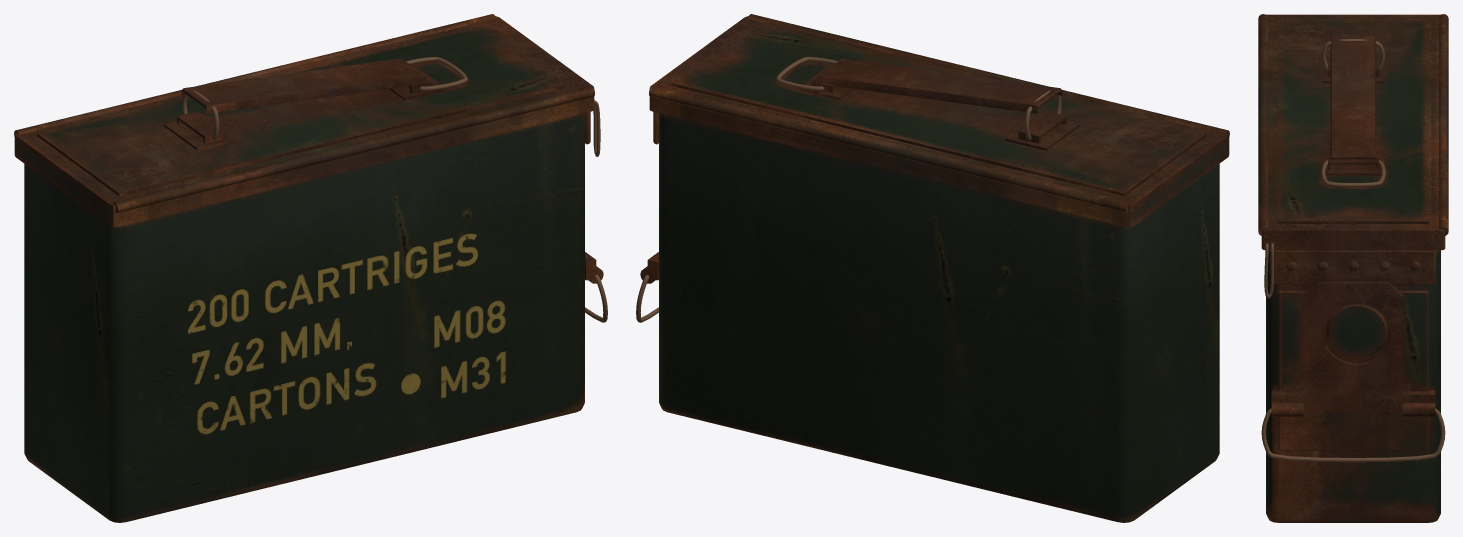
File: ammo-box.glb
The picture shows the model from 3 angles, left to right: view 1: azimuth 30°, elevation 25°; view 2: azimuth 150°, elevation 25°; view 3: azimuth 270°, elevation 25°; orthographic projection. The views are drawn at different scales.
Visible parts, largest first — view 1: SM_AmmoBox_Body, SM_AmmoBox_Lid, SM_AmmoBox_Handle, SM_AmmoBox_HandleBrackets; view 2: SM_AmmoBox_Body, SM_AmmoBox_Lid, SM_AmmoBox_Handle, SM_AmmoBox_HandleBrackets; view 3: SM_AmmoBox_Lid, SM_AmmoBox_Body, SM_AmmoBox_Latch, SM_AmmoBox_Handle, SM_AmmoBox_RivetStrip, SM_AmmoBox_LatchHinge, SM_AmmoBox_HandleBrackets, SM_AmmoBox_LatchBail, SM_AmmoBox_HandleBail_R, SM_AmmoBox_LidWire, SM_AmmoBox_HandleBail_L.
Part boxes in pixels (x1=…): SM_AmmoBox_Body: x1=24, y1=113, x2=584, y2=522; SM_AmmoBox_Lid: x1=14, y1=14, x2=594, y2=227; SM_AmmoBox_Handle: x1=181, y1=58, x2=426, y2=113; SM_AmmoBox_HandleBrackets: x1=163, y1=64, x2=445, y2=150; SM_AmmoBox_Body: x1=659, y1=113, x2=1219, y2=522; SM_AmmoBox_Lid: x1=649, y1=14, x2=1229, y2=227; SM_AmmoBox_Handle: x1=817, y1=58, x2=1062, y2=113; SM_AmmoBox_HandleBrackets: x1=798, y1=64, x2=1080, y2=150; SM_AmmoBox_Lid: x1=1258, y1=14, x2=1448, y2=250; SM_AmmoBox_Body: x1=1266, y1=250, x2=1440, y2=522; SM_AmmoBox_Latch: x1=1304, y1=281, x2=1402, y2=411; SM_AmmoBox_Handle: x1=1330, y1=36, x2=1376, y2=160; SM_AmmoBox_RivetStrip: x1=1273, y1=250, x2=1435, y2=284; SM_AmmoBox_LatchHinge: x1=1271, y1=390, x2=1435, y2=417; SM_AmmoBox_HandleBrackets: x1=1322, y1=60, x2=1384, y2=175; SM_AmmoBox_LatchBail: x1=1261, y1=408, x2=1445, y2=462; SM_AmmoBox_HandleBail_R: x1=1321, y1=160, x2=1385, y2=187; SM_AmmoBox_LidWire: x1=1264, y1=243, x2=1273, y2=298; SM_AmmoBox_HandleBail_L: x1=1321, y1=39, x2=1385, y2=70.
Size of the model in its own units: 0.29 by 0.2028 by 0.1046.
Materials: 3 (2 with a texture image).
